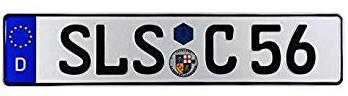5: (250, 23, 283, 76)
6: (285, 23, 318, 76)
C: (203, 21, 238, 76)
L: (94, 20, 131, 78)
S: (131, 22, 167, 76), (57, 23, 93, 77)
